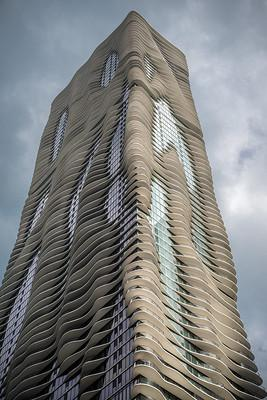building: (2, 8, 267, 400)
